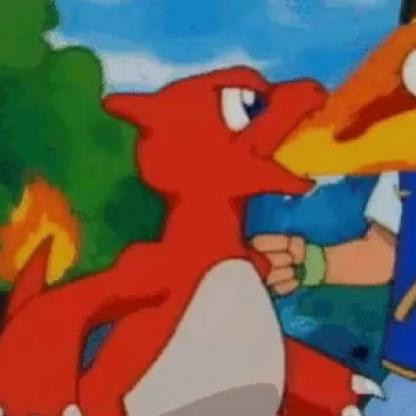Charmeleon: (1, 30, 388, 416)
